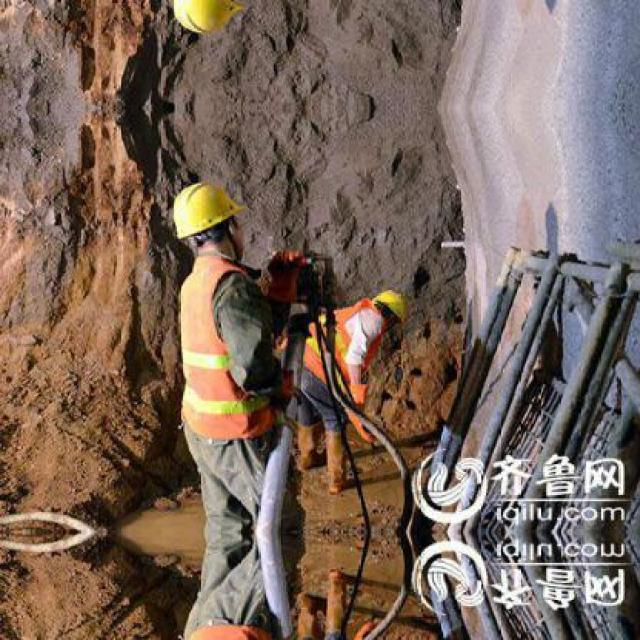helmet: (168, 172, 250, 264), (168, 0, 252, 45), (368, 288, 407, 327)
